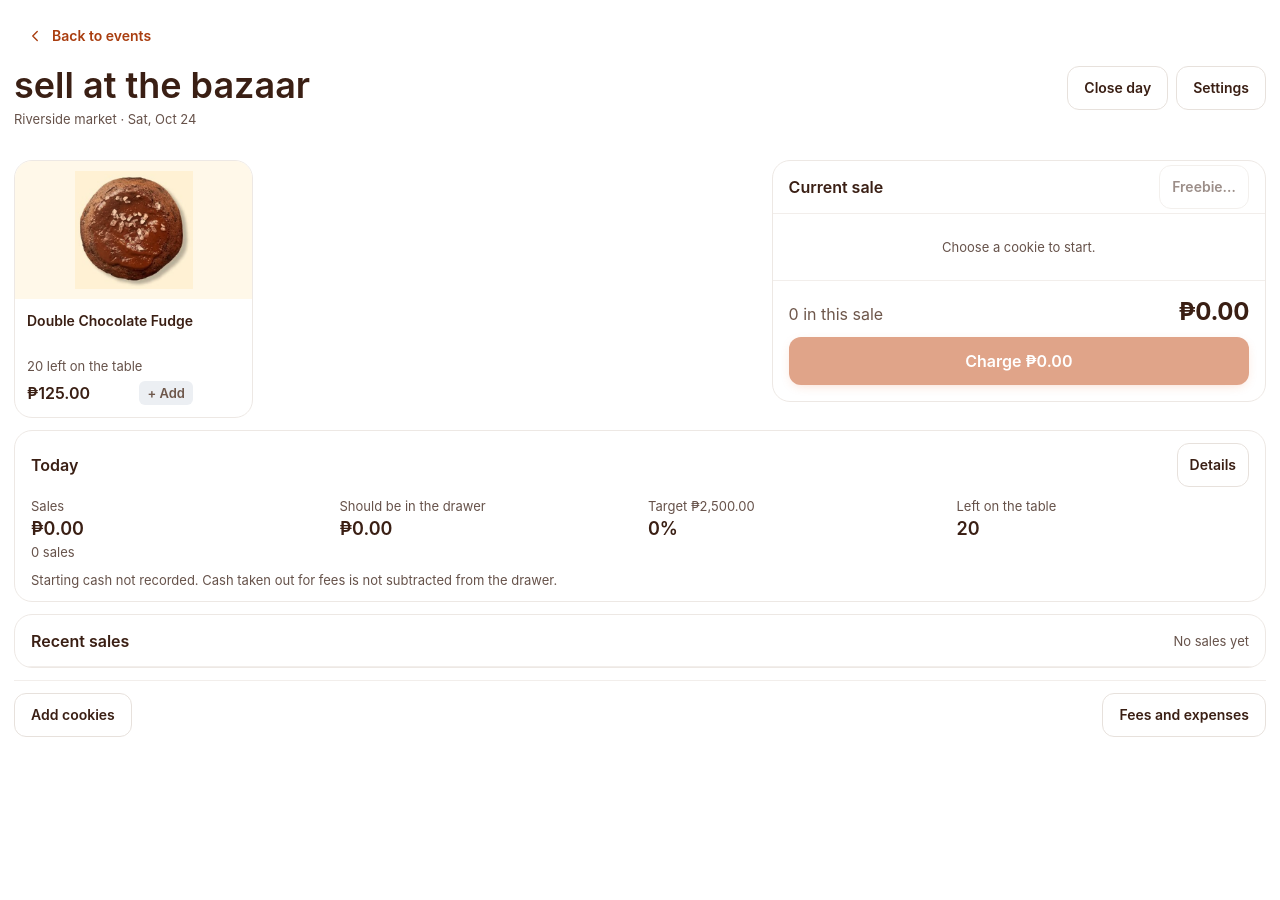
Scenario: HCB-004 a: the Bazaar plan and a failed or unread catalogue read › D. a day already selling on this phone is not interrupted or emptied by a failed catalogue read
This screenshot has width=1280, height=900.
Click the button "Double Chocolate Fudge 20 left on the table ₱125.00 + Add".
click(134, 289)  # box [14,160,253,418]
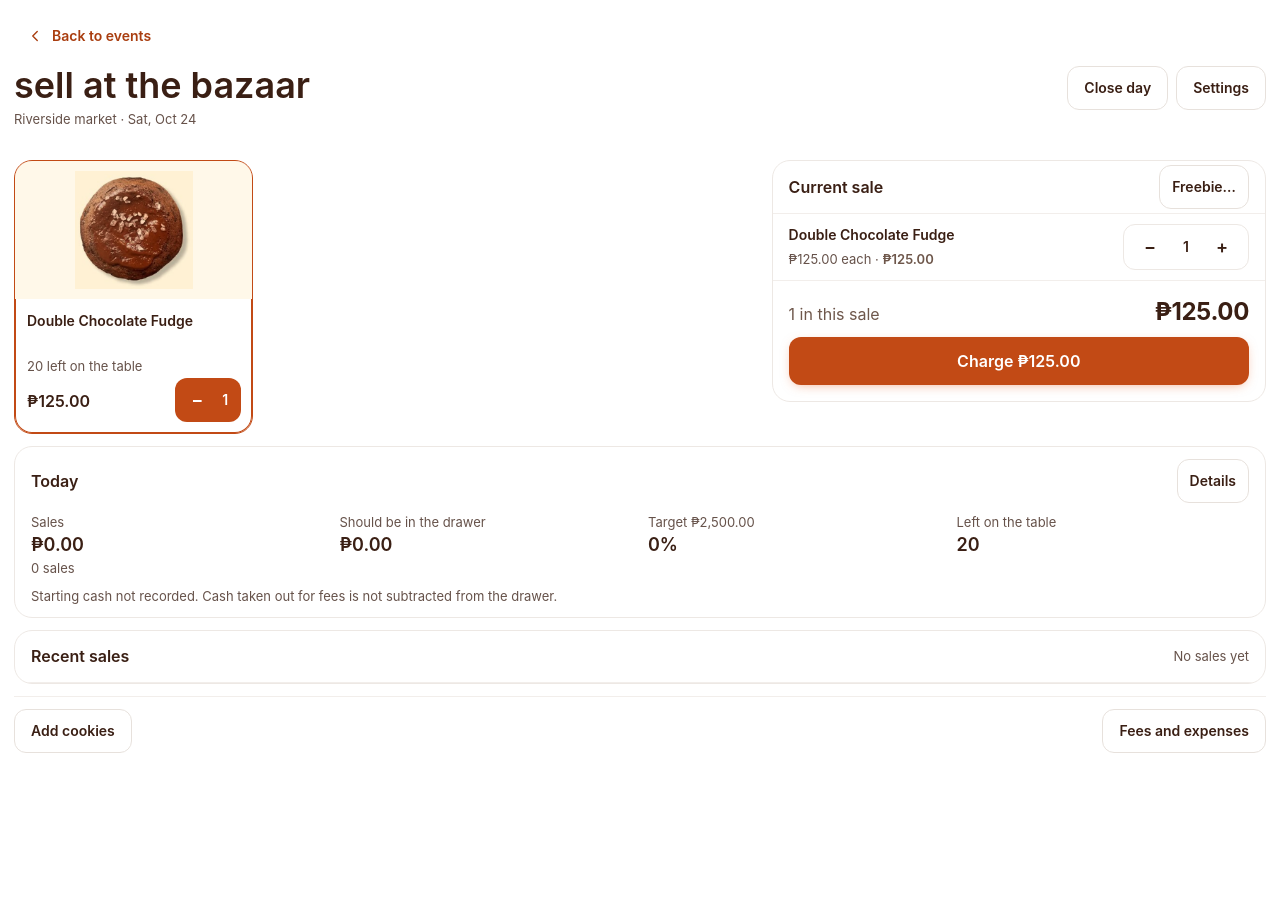
expect the button "Double Chocolate Fudge 20 left on the table ₱125.00" is shown: met, box [14,160,253,434]
expect the button "Charge ₱125.00" is shown: met, box [789,337,1249,385]
